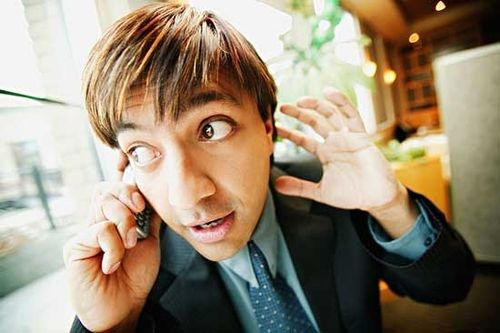calling: (59, 146, 165, 327)
